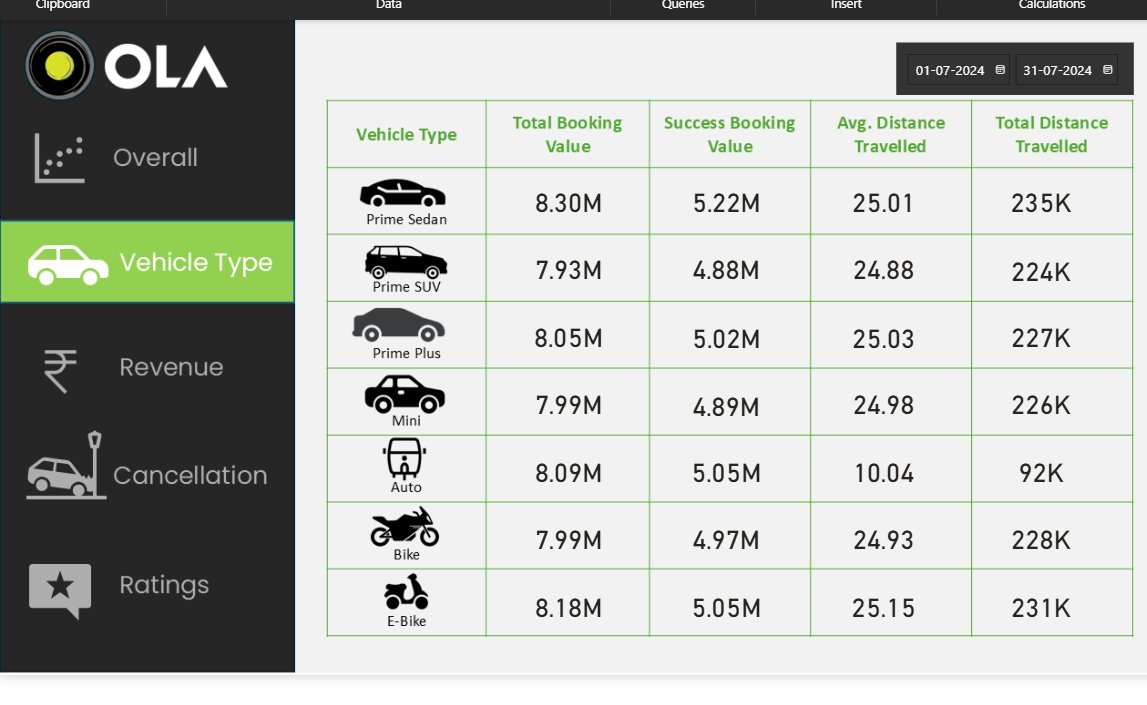

The dashboard page shown, as its layout file describes it:
{"tool":"powerbi","page":{"name":"Vehiclle Type","canvas":[1280,720],"ordinal":1},"visuals":[{"type":"actionButton","box":[0,339.9,325.2,92],"z":0},{"type":"actionButton","box":[0,115.3,316.6,92],"z":1000},{"type":"actionButton","box":[0,450.3,316.6,92],"z":2000},{"type":"actionButton","box":[0,576.7,316.6,92],"z":3000},{"type":"card","fields":{"Values":["Sum(Bookings.Booking_Value)"]},"box":[537.9,161.9,172.9,74.1],"z":4000},{"type":"card","fields":{"Values":["Sum(Bookings.Booking_Value)"]},"box":[537.9,236,172.9,74.1],"z":5000},{"type":"card","fields":{"Values":["Sum(Bookings.Booking_Value)"]},"box":[537.9,310.1,172.9,74.1],"z":6000},{"type":"card","fields":{"Values":["Sum(Bookings.Booking_Value)"]},"box":[537.9,384.2,172.9,74.1],"z":7000},{"type":"card","fields":{"Values":["Sum(Bookings.Booking_Value)"]},"box":[537.9,458.3,172.9,74.1],"z":8000},{"type":"card","fields":{"Values":["Sum(Bookings.Booking_Value)"]},"box":[537.9,532.4,172.9,74.1],"z":9000},{"type":"card","fields":{"Values":["Sum(Bookings.Booking_Value)"]},"box":[537.9,606.5,172.9,74.1],"z":10000},{"type":"card","fields":{"Values":["Sum(Bookings.Booking_Value)"]},"box":[710.8,161.9,172.9,74.1],"z":11000},{"type":"card","fields":{"Values":["Sum(Bookings.Booking_Value)"]},"box":[710.8,236,172.9,74.1],"z":12000},{"type":"card","fields":{"Values":["Sum(Bookings.Booking_Value)"]},"box":[710.8,311.5,172.9,74.1],"z":13000},{"type":"card","fields":{"Values":["Sum(Bookings.Booking_Value)"]},"box":[710.8,385.6,172.9,74.1],"z":14000},{"type":"card","fields":{"Values":["Sum(Bookings.Booking_Value)"]},"box":[710.8,458.3,172.9,74.1],"z":15000},{"type":"card","fields":{"Values":["Sum(Bookings.Booking_Value)"]},"box":[710.8,532.4,172.9,74.1],"z":16000},{"type":"card","fields":{"Values":["Sum(Bookings.Booking_Value)"]},"box":[710.8,606.5,172.9,74.1],"z":17000},{"type":"card","fields":{"Values":["Avg(Bookings.Ride_Distance)"]},"box":[883.7,161.9,172.9,74.1],"z":18000},{"type":"card","fields":{"Values":["Avg(Bookings.Ride_Distance)"]},"box":[883.7,236,172.9,74.1],"z":19000},{"type":"card","fields":{"Values":["Avg(Bookings.Ride_Distance)"]},"box":[883.7,311.5,172.9,74.1],"z":20000},{"type":"card","fields":{"Values":["Avg(Bookings.Ride_Distance)"]},"box":[883.7,384.2,172.9,74.1],"z":21000},{"type":"card","fields":{"Values":["Avg(Bookings.Ride_Distance)"]},"box":[883.7,458.3,172.9,74.1],"z":22000},{"type":"card","fields":{"Values":["Avg(Bookings.Ride_Distance)"]},"box":[883.7,532.4,172.9,74.1],"z":23000},{"type":"card","fields":{"Values":["Avg(Bookings.Ride_Distance)"]},"box":[883.7,606.5,172.9,74.1],"z":24000},{"type":"card","fields":{"Values":["Sum(Bookings.Ride_Distance)"]},"box":[1056.6,161.9,172.9,74.1],"z":25000},{"type":"card","fields":{"Values":["Sum(Bookings.Ride_Distance)"]},"box":[1056.6,237.4,172.9,74.1],"z":26000},{"type":"card","fields":{"Values":["Sum(Bookings.Ride_Distance)"]},"box":[1056.6,310.1,172.9,74.1],"z":27000},{"type":"card","fields":{"Values":["Sum(Bookings.Ride_Distance)"]},"box":[1056.6,384.2,172.9,74.1],"z":28000},{"type":"card","fields":{"Values":["Sum(Bookings.Ride_Distance)"]},"box":[1056.6,458.3,172.9,74.1],"z":29000},{"type":"card","fields":{"Values":["Sum(Bookings.Ride_Distance)"]},"box":[1056.6,532.4,172.9,74.1],"z":30000},{"type":"card","fields":{"Values":["Sum(Bookings.Ride_Distance)"]},"box":[1056.6,606.5,172.9,74.1],"z":31000},{"type":"slicer","title":"Date","fields":{"Values":["Bookings.Date"]},"box":[983.9,24.7,260.7,57.6],"z":32000}]}

Visuals, with their boxes on the page's 1280x720 design canvas (x1, y1, x2, y2). These are canvas units, not pixel positions in the 1147x705 screenshot, which may show the page scaled, cropped or inside an application window:
actionButton: [x1=0, y1=340, x2=325, y2=432]
actionButton: [x1=0, y1=115, x2=317, y2=207]
actionButton: [x1=0, y1=450, x2=317, y2=542]
actionButton: [x1=0, y1=577, x2=317, y2=669]
card - Sum(Bookings.Booking_Value): [x1=538, y1=162, x2=711, y2=236]
card - Sum(Bookings.Booking_Value): [x1=538, y1=236, x2=711, y2=310]
card - Sum(Bookings.Booking_Value): [x1=538, y1=310, x2=711, y2=384]
card - Sum(Bookings.Booking_Value): [x1=538, y1=384, x2=711, y2=458]
card - Sum(Bookings.Booking_Value): [x1=538, y1=458, x2=711, y2=532]
card - Sum(Bookings.Booking_Value): [x1=538, y1=532, x2=711, y2=606]
card - Sum(Bookings.Booking_Value): [x1=538, y1=606, x2=711, y2=681]
card - Sum(Bookings.Booking_Value): [x1=711, y1=162, x2=884, y2=236]
card - Sum(Bookings.Booking_Value): [x1=711, y1=236, x2=884, y2=310]
card - Sum(Bookings.Booking_Value): [x1=711, y1=312, x2=884, y2=386]
card - Sum(Bookings.Booking_Value): [x1=711, y1=386, x2=884, y2=460]
card - Sum(Bookings.Booking_Value): [x1=711, y1=458, x2=884, y2=532]
card - Sum(Bookings.Booking_Value): [x1=711, y1=532, x2=884, y2=606]
card - Sum(Bookings.Booking_Value): [x1=711, y1=606, x2=884, y2=681]
card - Avg(Bookings.Ride_Distance): [x1=884, y1=162, x2=1057, y2=236]
card - Avg(Bookings.Ride_Distance): [x1=884, y1=236, x2=1057, y2=310]
card - Avg(Bookings.Ride_Distance): [x1=884, y1=312, x2=1057, y2=386]
card - Avg(Bookings.Ride_Distance): [x1=884, y1=384, x2=1057, y2=458]
card - Avg(Bookings.Ride_Distance): [x1=884, y1=458, x2=1057, y2=532]
card - Avg(Bookings.Ride_Distance): [x1=884, y1=532, x2=1057, y2=606]
card - Avg(Bookings.Ride_Distance): [x1=884, y1=606, x2=1057, y2=681]
card - Sum(Bookings.Ride_Distance): [x1=1057, y1=162, x2=1230, y2=236]
card - Sum(Bookings.Ride_Distance): [x1=1057, y1=237, x2=1230, y2=312]
card - Sum(Bookings.Ride_Distance): [x1=1057, y1=310, x2=1230, y2=384]
card - Sum(Bookings.Ride_Distance): [x1=1057, y1=384, x2=1230, y2=458]
card - Sum(Bookings.Ride_Distance): [x1=1057, y1=458, x2=1230, y2=532]
card - Sum(Bookings.Ride_Distance): [x1=1057, y1=532, x2=1230, y2=606]
card - Sum(Bookings.Ride_Distance): [x1=1057, y1=606, x2=1230, y2=681]
"Date" slicer: [x1=984, y1=25, x2=1245, y2=82]
